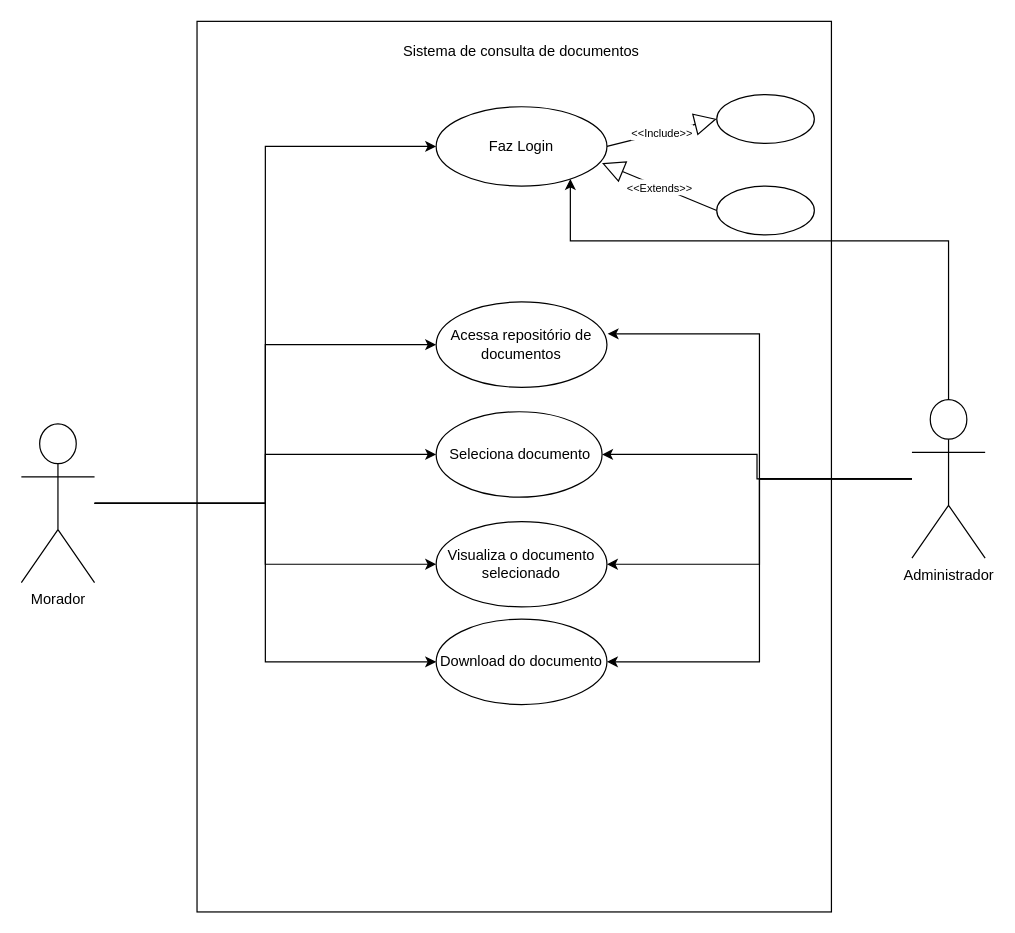
The diagram is 1015 pixels wide and 933 high, and some of its shapes have lost their labels. Here are the shapes that lost their labels. From the top down, the centre of each, then its label:
(x=765, y=118): Verificar senha
(x=765, y=210): Exibe erro de login
